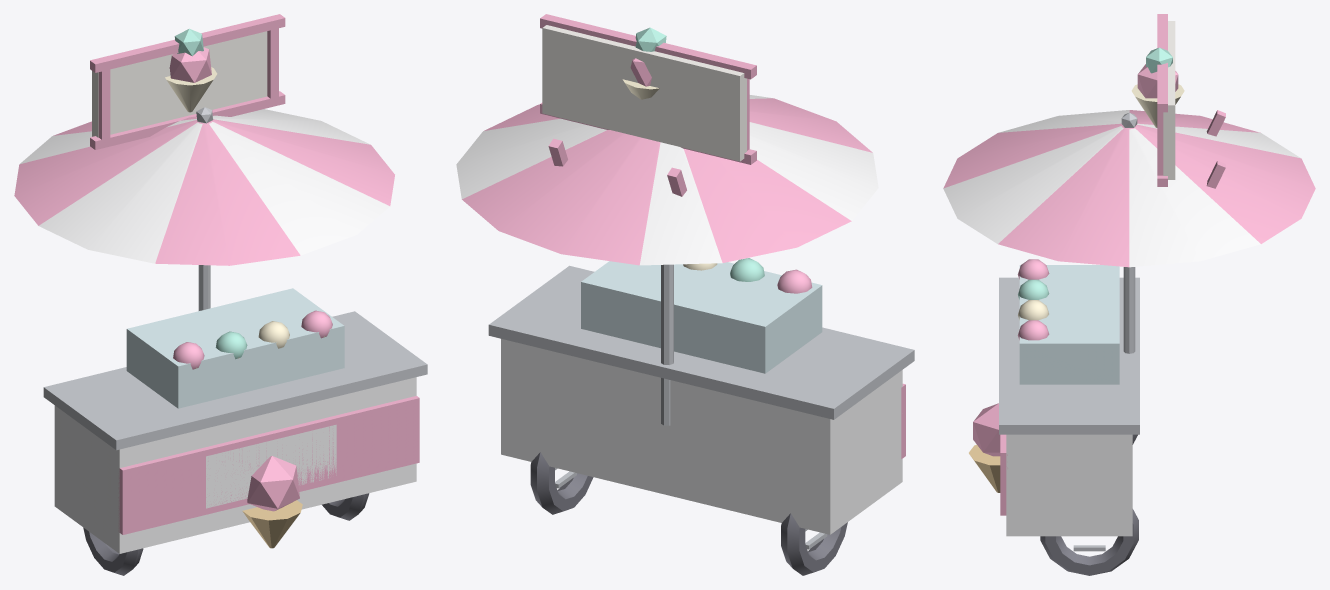
Rendered from stall_icecream.glb.
The picture shows the model from 3 angles, left to right: view 1: azimuth 30°, elevation 25°; view 2: azimuth 150°, elevation 25°; view 3: azimuth 270°, elevation 25°; orthographic projection. The views are drawn at different scales.
Parts seen in each view (by area): view 1: stall_icecream; view 2: stall_icecream; view 3: stall_icecream.
Boxes of the visible parts, bbox=[...] form: stall_icecream: bbox=[14, 14, 427, 575]; stall_icecream: bbox=[456, 14, 914, 575]; stall_icecream: bbox=[943, 14, 1315, 575].
Size of the model in its own units: 2.8 by 3.94 by 2.8.
